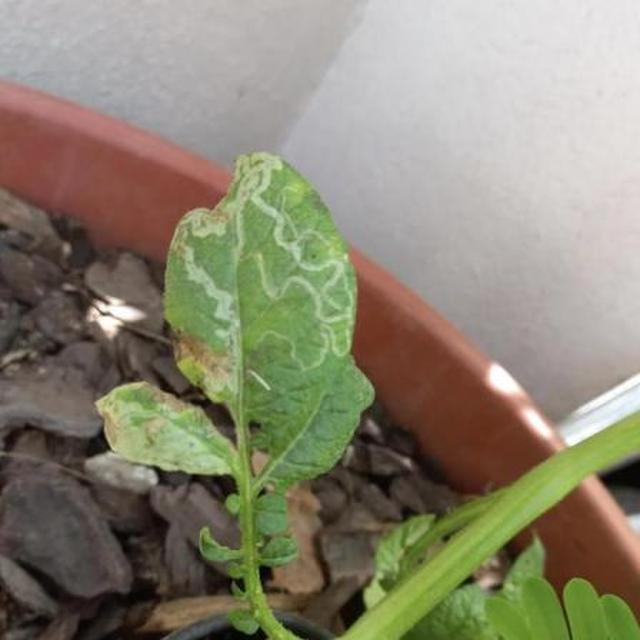Leaf Miner: (233, 215, 545, 640)
